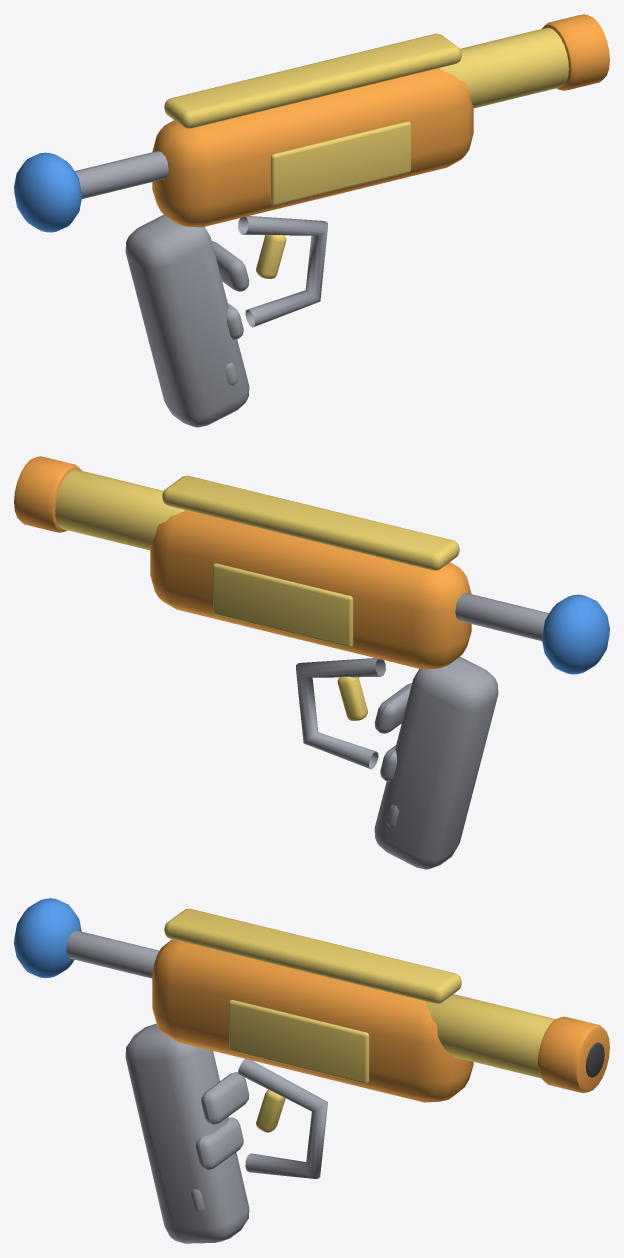
Rendered from starter.glb.
The picture shows the model from 3 angles, top to bottom: view 1: azimuth 30°, elevation 25°; view 2: azimuth 150°, elevation 25°; view 3: azimuth 330°, elevation 25°; orthographic projection.
Visible parts, largest first — view 1: body, handle, rib, panel1, barrel, plungerknob, guard, muzzle, plungerrod, bump0, trigger; view 2: body, handle, rib, panel-1, barrel, plungerknob, guard, muzzle, plungerrod, bump0, trigger; view 3: body, handle, rib, panel1, barrel, muzzle, plungerknob, guard, plungerrod, bump0, bump1, trigger (+1 smaller).
Part boxes in pixels (left/top/right/bottom): body: left=152, top=68, right=473, bottom=227; handle: left=125, top=214, right=249, bottom=427; rib: left=164, top=33, right=461, bottom=128; panel1: left=270, top=121, right=410, bottom=205; barrel: left=439, top=28, right=568, bottom=108; plungerknob: left=14, top=152, right=81, bottom=232; guard: left=238, top=216, right=327, bottom=327; muzzle: left=542, top=14, right=609, bottom=90; plungerrod: left=75, top=151, right=168, bottom=198; bump0: left=212, top=241, right=249, bottom=291; trigger: left=256, top=235, right=286, bottom=278; body: left=150, top=510, right=471, bottom=669; handle: left=374, top=656, right=498, bottom=869; rib: left=162, top=475, right=459, bottom=570; panel-1: left=213, top=563, right=353, bottom=647; barrel: left=55, top=470, right=184, bottom=550; plungerknob: left=542, top=594, right=609, bottom=674; guard: left=296, top=658, right=385, bottom=769; muzzle: left=14, top=456, right=81, bottom=532; plungerrod: left=455, top=593, right=548, bottom=640; bump0: left=374, top=683, right=411, bottom=733; trigger: left=337, top=676, right=367, bottom=720; body: left=152, top=939, right=473, bottom=1102; handle: left=125, top=1023, right=249, bottom=1243; rib: left=164, top=908, right=461, bottom=1003; panel1: left=229, top=999, right=369, bottom=1083; barrel: left=426, top=994, right=555, bottom=1078; muzzle: left=538, top=1016, right=609, bottom=1093; plungerknob: left=14, top=898, right=81, bottom=978; guard: left=238, top=1059, right=327, bottom=1178; plungerrod: left=66, top=930, right=159, bottom=978; bump0: left=201, top=1072, right=249, bottom=1124; bump1: left=195, top=1117, right=243, bottom=1169; trigger: left=256, top=1089, right=285, bottom=1132.
Size of the model in its own units: 0.414 by 0.2185 by 0.056.
